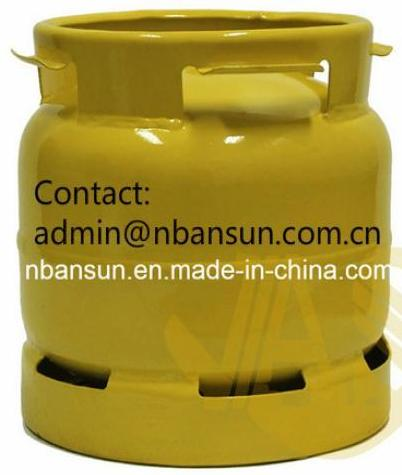cylinder: (1, 0, 402, 475)
